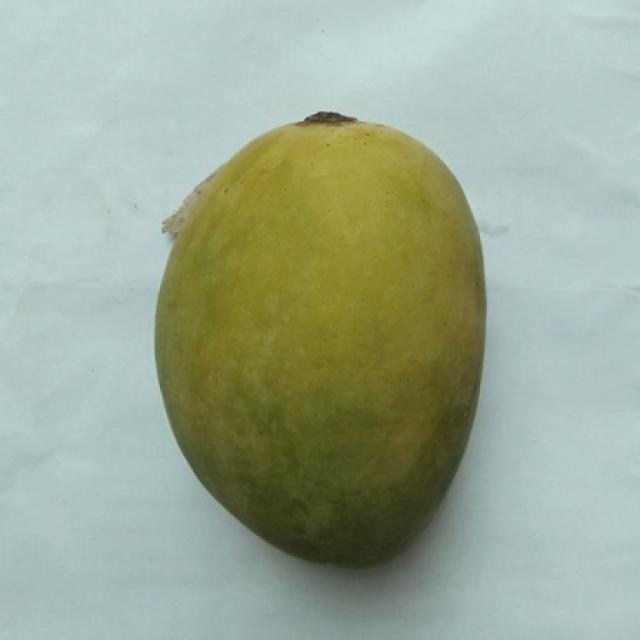Mango: (157, 114, 482, 563)
